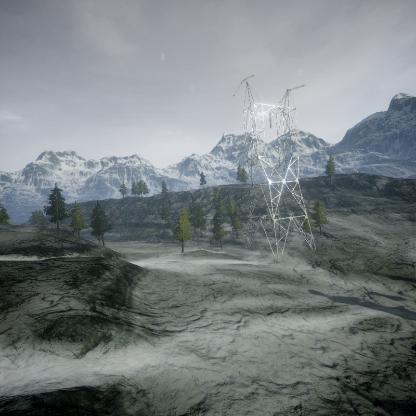tower: (231, 74, 318, 252)
